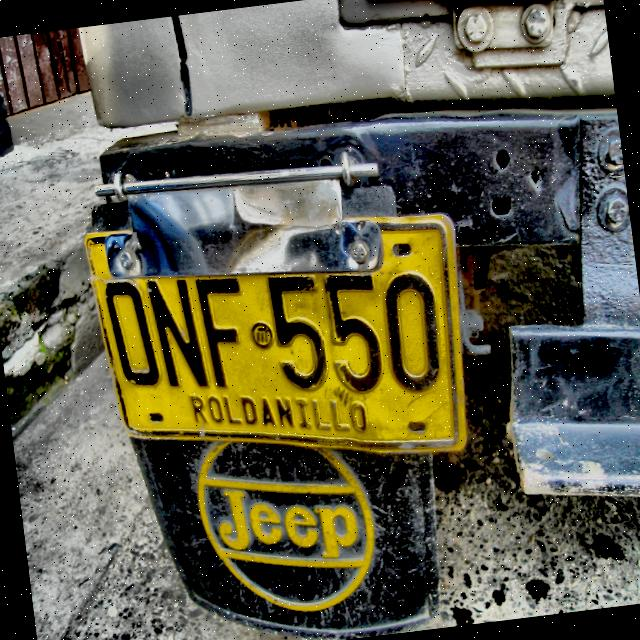plate: (83, 213, 468, 451)
